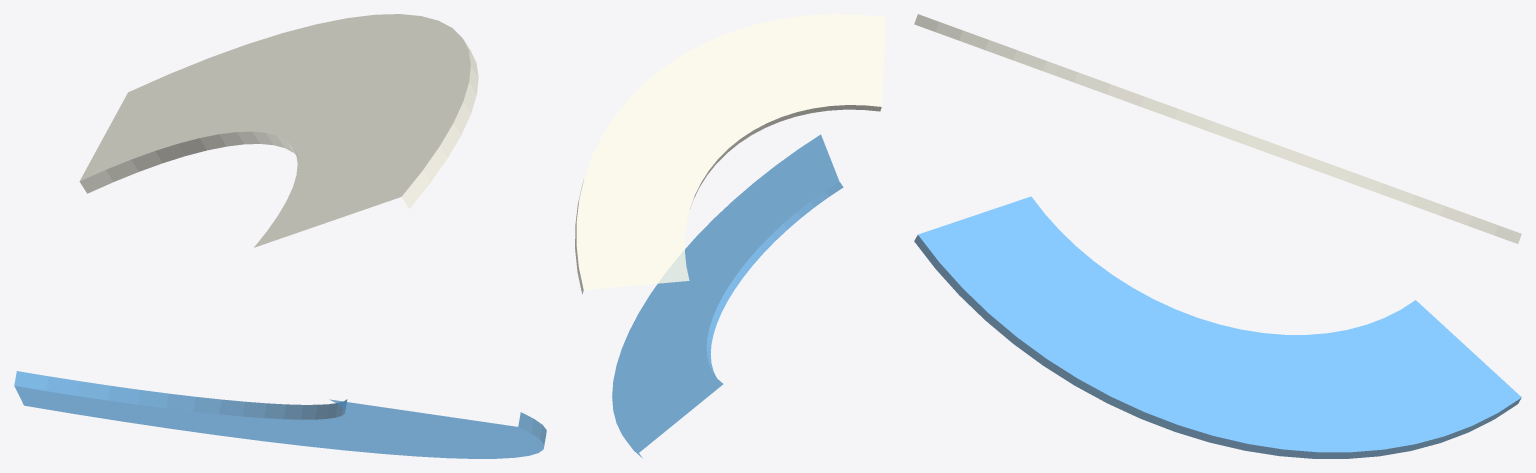
The model's file is vfx_cross_slash.glb.
The picture shows the model from 3 angles, left to right: view 1: azimuth 30°, elevation 25°; view 2: azimuth 150°, elevation 25°; view 3: azimuth 270°, elevation 25°; orthographic projection. The views are drawn at different scales.
Parts seen in each view (by area): view 1: slash_a, slash_b; view 2: slash_a, slash_b; view 3: slash_b, slash_a.
Part boxes in pixels (x1=…): slash_a: x1=79, y1=14, x2=478, y2=247; slash_b: x1=14, y1=371, x2=546, y2=458; slash_a: x1=575, y1=14, x2=885, y2=294; slash_b: x1=612, y1=134, x2=843, y2=458; slash_b: x1=914, y1=196, x2=1521, y2=458; slash_a: x1=914, y1=14, x2=1521, y2=243.
Bounding box in the file's own units: 0.7403 × 1.18 × 1.65.
